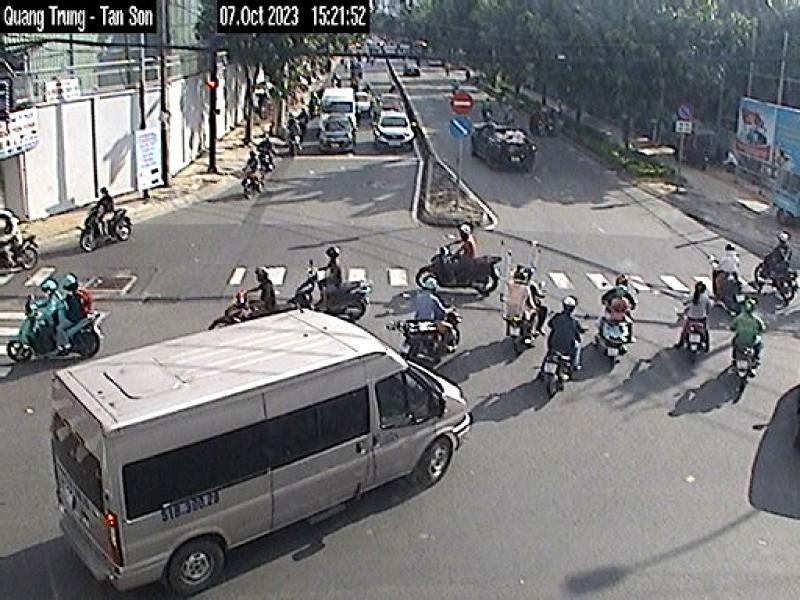car: (47, 313, 476, 600), (466, 121, 541, 181), (320, 120, 356, 154), (375, 115, 413, 142), (378, 89, 408, 117)
motorcycle: (283, 241, 385, 316), (8, 298, 114, 362), (290, 258, 374, 322), (412, 247, 502, 291), (596, 312, 632, 383), (76, 208, 132, 251), (544, 342, 584, 401), (750, 250, 800, 297), (676, 310, 714, 367), (212, 290, 292, 317), (730, 342, 755, 402)
truck: (320, 89, 357, 126)
